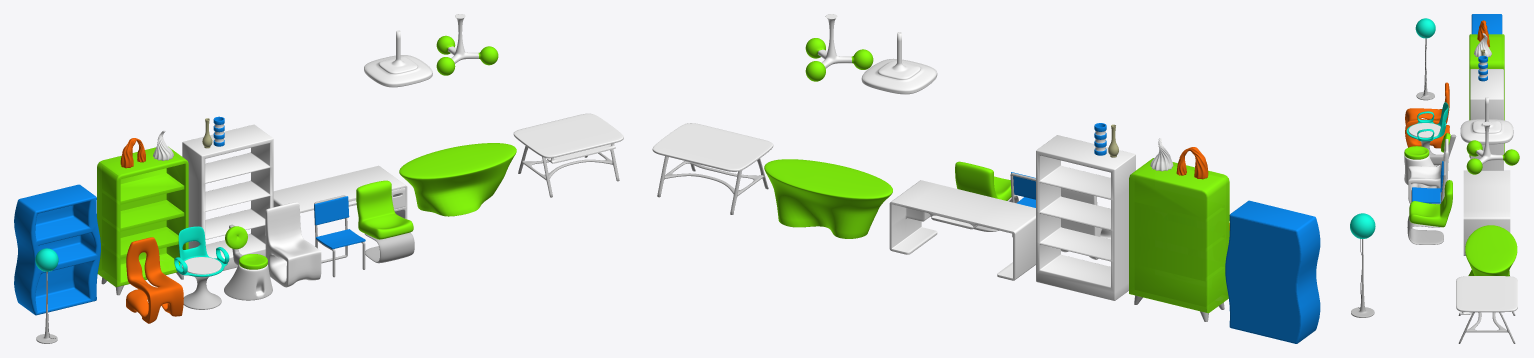
File: fa_home_furniture.fbx
3 views of the same model, side by side, from view 1: azimuth 30°, elevation 25°; view 2: azimuth 150°, elevation 25°; view 3: azimuth 270°, elevation 25° (orthographic). The views are drawn at different scales.
Parts seen in each view (by area): view 1: fa_bookshelf1, fa_bookshelf2, fa_bookshelf0, fa_desk1, fa_desk2, fa_chair_2, fa_chair_5, fa_desk0, fa_chair_0, fa_light0, fa_chair4, fa_chair_1 (+8 smaller); view 2: fa_bookshelf1, fa_bookshelf0, fa_bookshelf2, fa_desk1, fa_desk0, fa_desk2, fa_light0, fa_light1, fa_chair_0, fa_desk2_legs, fa_chair_2, fa_chair_1 (+1 smaller); view 3: fa_desk0, fa_desk2, fa_desk1, fa_bookshelf0, fa_light0, fa_chair_0, fa_bookshelf1, fa_light1, fa_chair_2, fa_chair_5, fa_chair4, fa_chair_0_feet (+12 smaller).
Boxes of the visible parts, bbox=[...] form: fa_bookshelf1: bbox=[97, 146, 188, 287]; fa_bookshelf2: bbox=[14, 184, 100, 315]; fa_bookshelf0: bbox=[182, 124, 273, 270]; fa_desk1: bbox=[399, 143, 516, 216]; fa_desk2: bbox=[513, 113, 623, 163]; fa_chair_2: bbox=[265, 202, 321, 287]; fa_chair_5: bbox=[126, 237, 183, 323]; fa_desk0: bbox=[273, 165, 407, 219]; fa_chair_0: bbox=[356, 180, 413, 239]; fa_light0: bbox=[364, 30, 432, 87]; fa_chair4: bbox=[174, 226, 229, 276]; fa_chair_1: bbox=[314, 196, 365, 249]; fa_bookshelf1: bbox=[1129, 158, 1229, 313]; fa_bookshelf0: bbox=[1036, 135, 1135, 300]; fa_bookshelf2: bbox=[1225, 200, 1320, 343]; fa_desk1: bbox=[764, 159, 892, 238]; fa_desk0: bbox=[889, 180, 1035, 280]; fa_desk2: bbox=[652, 123, 773, 171]; fa_light0: bbox=[861, 32, 937, 94]; fa_light1: bbox=[805, 14, 873, 81]; fa_chair_0: bbox=[955, 161, 1011, 200]; fa_desk2_legs: bbox=[657, 156, 768, 214]; fa_chair_2: bbox=[1061, 188, 1110, 259]; fa_chair_1: bbox=[1011, 172, 1035, 207]; fa_desk0: bbox=[1463, 170, 1510, 255]; fa_desk2: bbox=[1456, 276, 1517, 314]; fa_desk1: bbox=[1465, 225, 1517, 276]; fa_bookshelf0: bbox=[1470, 69, 1503, 170]; fa_light0: bbox=[1460, 97, 1513, 144]; fa_chair_0: bbox=[1409, 180, 1452, 227]; fa_bookshelf1: bbox=[1469, 34, 1504, 157]; fa_light1: bbox=[1466, 121, 1519, 174]; fa_chair_2: bbox=[1408, 139, 1448, 203]; fa_chair_5: bbox=[1405, 82, 1449, 148]; fa_chair4: bbox=[1406, 102, 1448, 141]; fa_chair_0_feet: bbox=[1407, 216, 1443, 244].
Bounding box in the file's own units: 7870 × 2315 × 1505.
6 materials, 4 textured.
